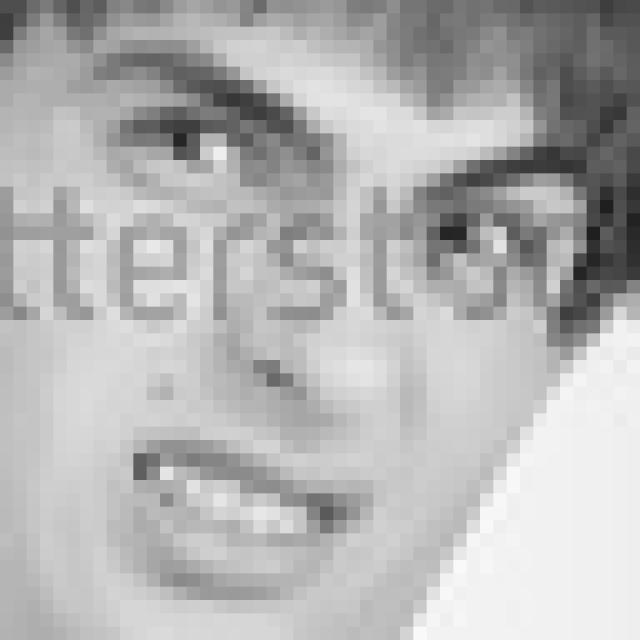disgust: (84, 42, 587, 607)
